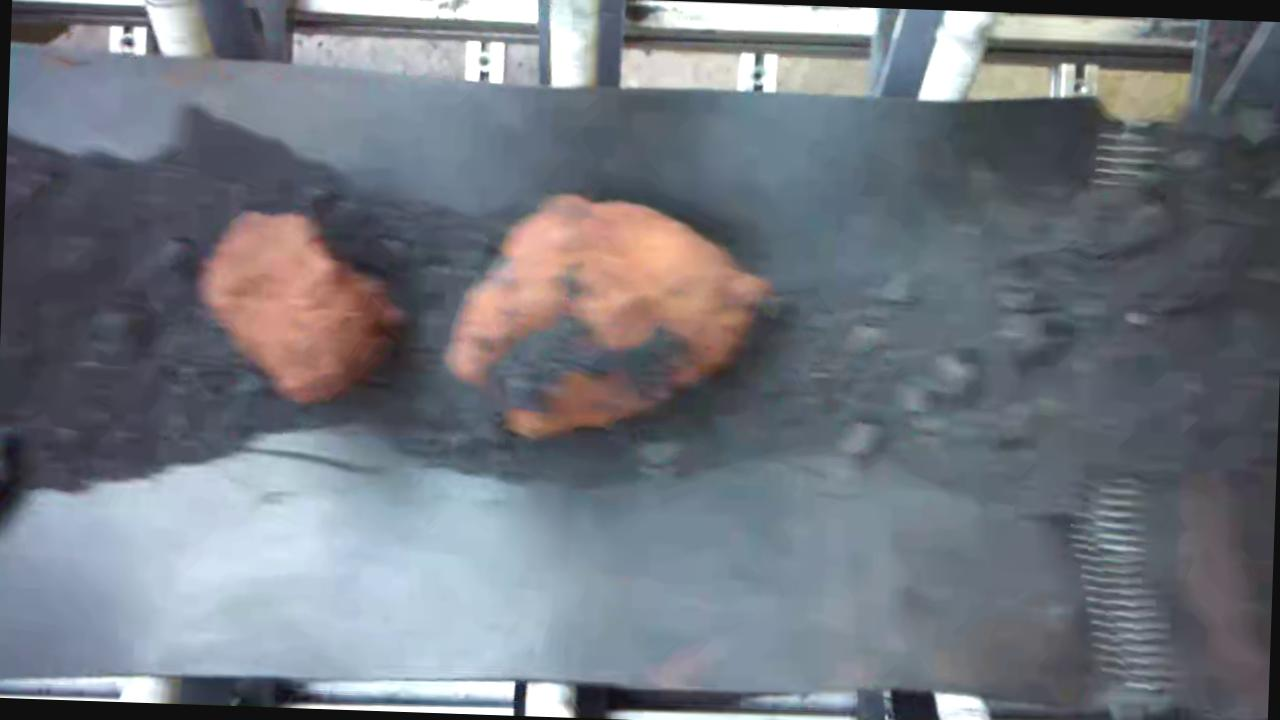conveyor: (0, 54, 1280, 719)
